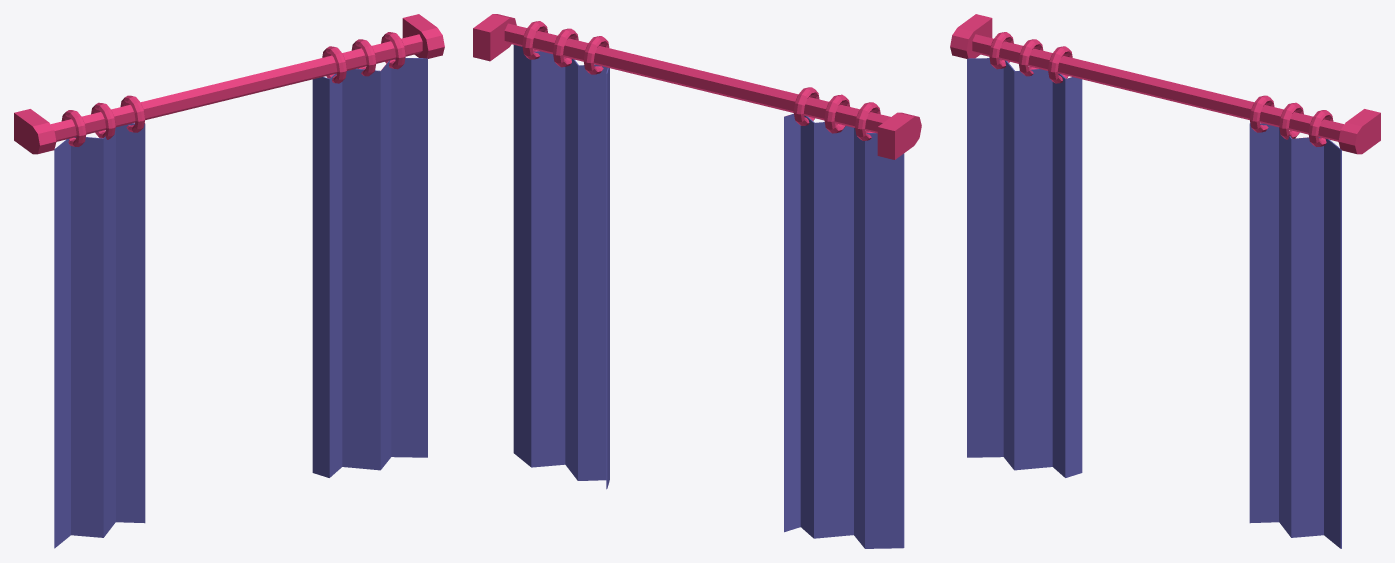
The model's file is Curtains_06.fbx.
The picture shows the model from 3 angles, left to right: view 1: azimuth 30°, elevation 25°; view 2: azimuth 150°, elevation 25°; view 3: azimuth 330°, elevation 25°; orthographic projection. The views are drawn at different scales.
Visible parts, largest first — view 1: Curtains_06; view 2: Curtains_06; view 3: Curtains_06.
Boxes of the visible parts, x1,y1,x2,y2 form: Curtains_06: (14,14,444,548); Curtains_06: (473,14,921,548); Curtains_06: (950,14,1380,548).
Bounding box in the file's own units: 116 × 117 × 13.28.
